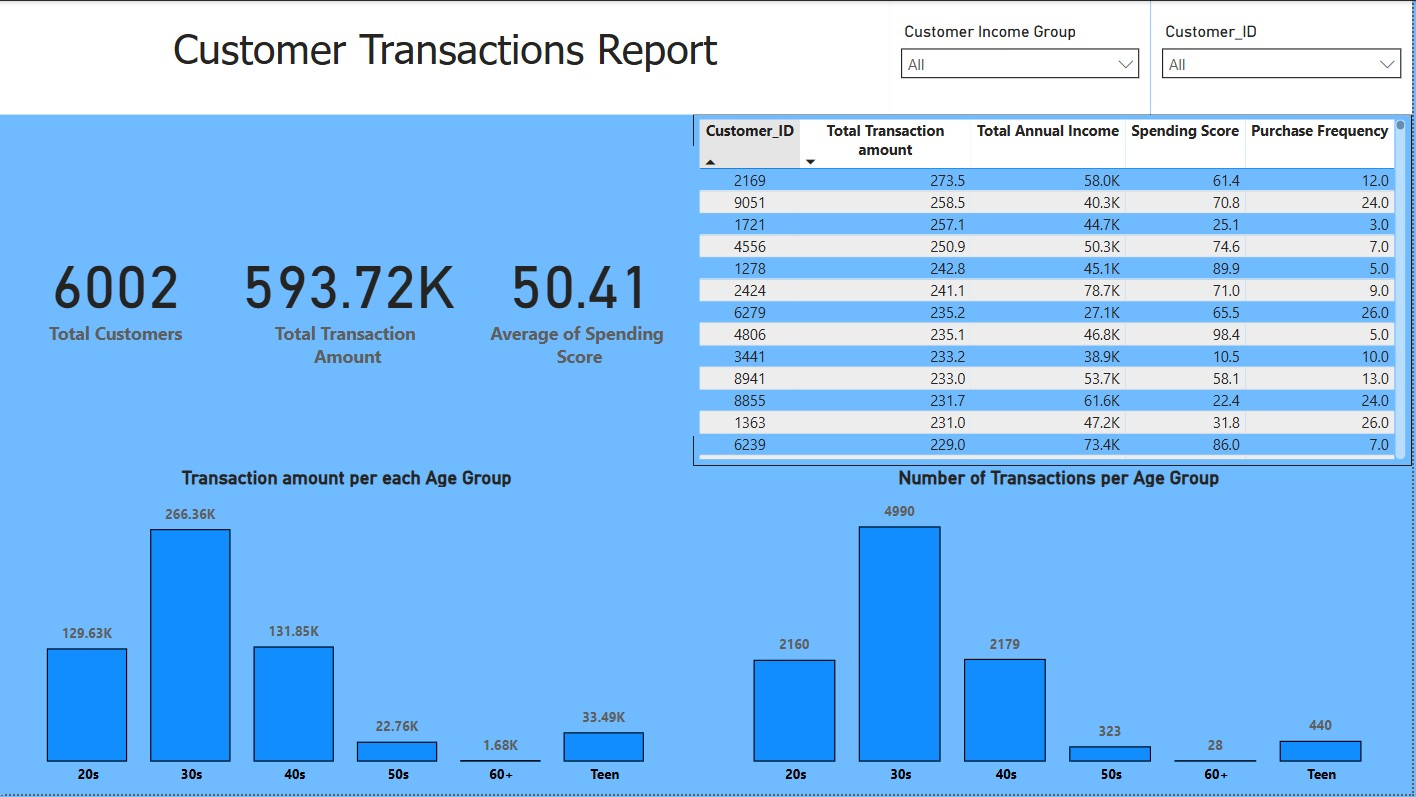

The page's visual inventory and layout, read from the dashboard file:
{"tool":"powerbi","page":{"name":"Customer Transaction Report","canvas":[1280,720],"ordinal":0},"visuals":[{"type":"card","fields":{"Values":["Sum(unclean_customer_data.Avg_transaction_amt)"]},"box":[209.6,131.3,211.6,262.5],"z":0},{"type":"card","fields":{"Values":["CountNonNull(unclean_customer_data.Customer_ID)"]},"box":[0,131.3,209.6,262.5],"z":1000},{"type":"clusteredColumnChart","title":"Transaction amount per each Age Group","fields":{"Category":["unclean_customer_data.Age Groups"],"Y":["Sum(unclean_customer_data.Avg_transaction_amt)"]},"box":[0,421.2,628.8,298.1],"z":2000},{"type":"clusteredColumnChart","title":"Number of Transactions per Age Group","fields":{"Category":["unclean_customer_data.Age Groups"],"Y":["Sum(unclean_customer_data.Total_transactions)"]},"box":[640,421.2,640,298.1],"z":3000},{"type":"tableEx","fields":{"Values":["unclean_customer_data.Customer_ID","unclean_customer_data.Avg_transaction_amt","unclean_customer_data.Average_annual_income","unclean_customer_data.Avg_spending_score","unclean_customer_data.Avg_purchase_frequency"]},"box":[628.8,102.8,651.2,318.5],"z":4000},{"type":"card","fields":{"Values":["Avg(unclean_customer_data.Avg_spending_score)"]},"box":[421.2,131.3,207.6,262.5],"z":5000},{"type":"slicer","fields":{"Values":["unclean_customer_data.Customer_ID"]},"box":[1043.9,0,236.1,102.8],"z":6000},{"type":"textbox","box":[0,0,807.3,103.1],"z":7000},{"type":"slicer","fields":{"Values":["unclean_customer_data.Average_annual_income"]},"box":[807.3,0,236.4,103.1],"z":8000}]}

Visuals, with their boxes in screenshot pixels (x1, y1, x2, y2), scaled from the page's 1280x720 canvas onto the 1416x797 screenshot:
card - Sum(unclean_customer_data.Avg_transaction_amt): detection(232, 145, 466, 436)
card - CountNonNull(unclean_customer_data.Customer_ID): detection(0, 145, 232, 436)
"Transaction amount per each Age Group" clusteredColumnChart: detection(0, 466, 696, 796)
"Number of Transactions per Age Group" clusteredColumnChart: detection(708, 466, 1415, 796)
tableEx - unclean_customer_data.Customer_ID x unclean_customer_data.Avg_transaction_amt: detection(696, 114, 1415, 466)
card - Avg(unclean_customer_data.Avg_spending_score): detection(466, 145, 696, 436)
slicer - unclean_customer_data.Customer_ID: detection(1155, 0, 1415, 114)
textbox: detection(0, 0, 893, 114)
slicer - unclean_customer_data.Average_annual_income: detection(893, 0, 1155, 114)
